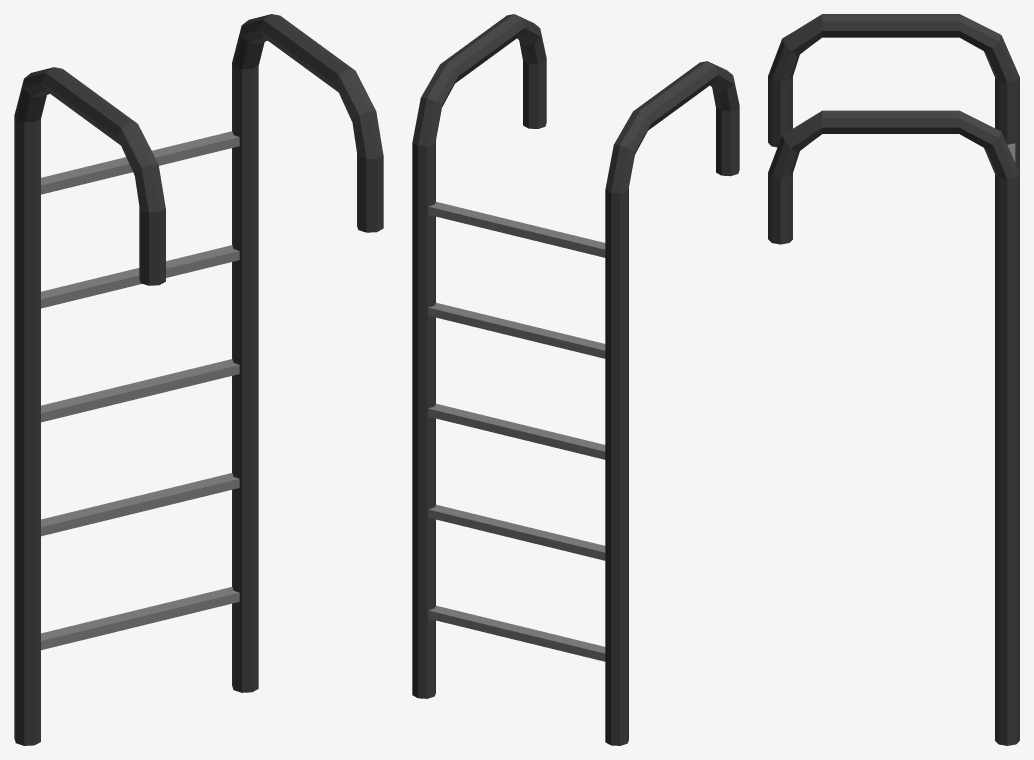
File: ladder_end.fbx
3 renders of one model, left to right at view 1: azimuth 30°, elevation 25°; view 2: azimuth 150°, elevation 25°; view 3: azimuth 270°, elevation 25°, orthographic. The views are drawn at different scales.
Parts seen in each view (by area): view 1: ladder_end; view 2: ladder_end; view 3: ladder_end.
Part boxes in pixels (box(x1,y1,x2,y2)): ladder_end: box(14, 14, 383, 745); ladder_end: box(412, 14, 739, 745); ladder_end: box(768, 14, 1019, 745).
Size of the model in its own units: 111 by 304 by 110.
Materials: 1 (1 with a texture image).
